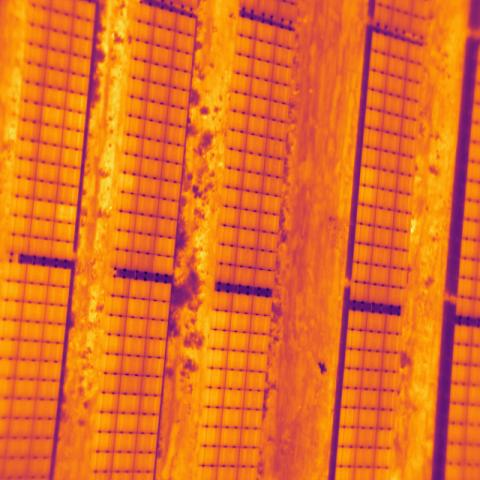fault: (54, 204, 77, 225), (119, 172, 140, 195)
